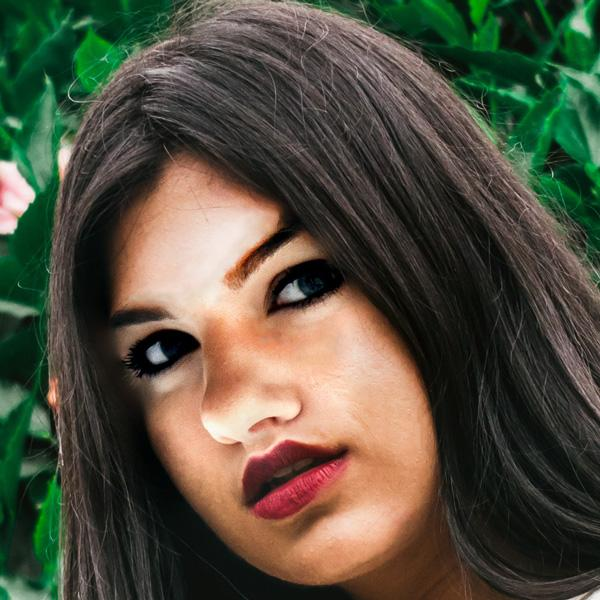Eyes: (262, 244, 353, 323), (124, 315, 206, 387)
